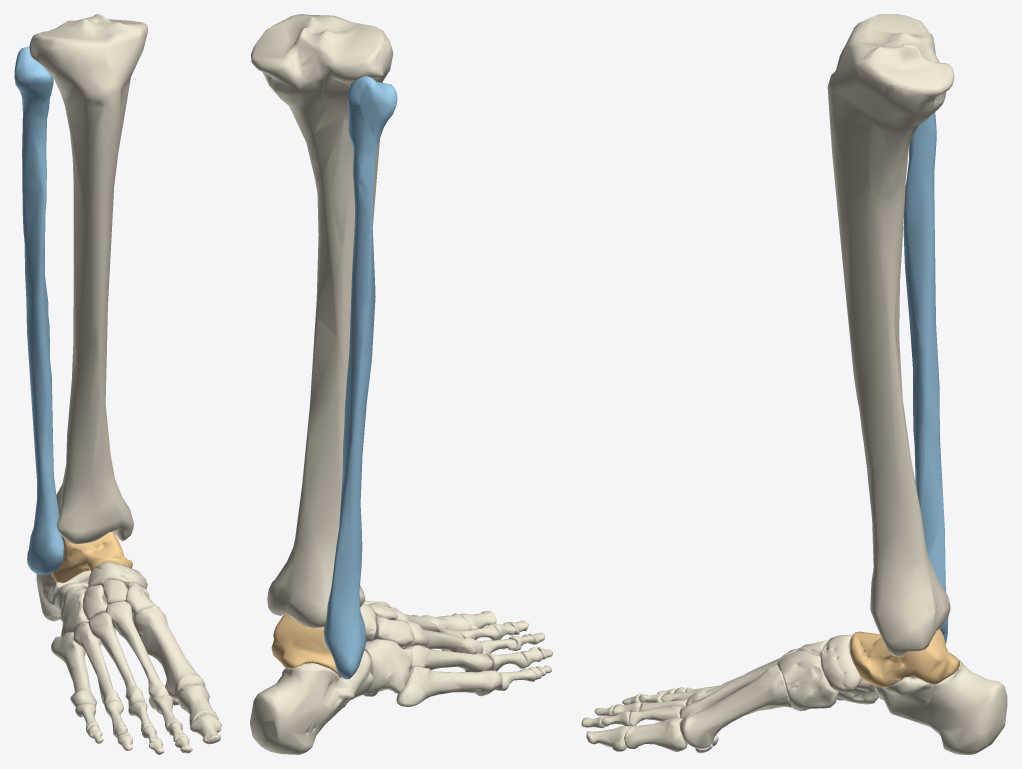
The model's file is ankle-preview.glb.
The picture shows the model from 3 angles, left to right: view 1: azimuth 30°, elevation 25°; view 2: azimuth 150°, elevation 25°; view 3: azimuth 270°, elevation 25°; orthographic projection. The views are drawn at different scales.
Parts seen in each view (by area): view 1: Tibia.r-ankle-preview, Fibula.r-ankle-preview, First metatarsal bone.r-ankle-preview, Talus.r-ankle-preview, Second metatarsal bone.r-ankle-preview, Fifth metatarsal bone.r-ankle-preview, Third metatarsal bone.r-ankle-preview, Calcaneus.r-ankle-preview, Fourth metatarsal bone.r-ankle-preview, Navicular bone.r-ankle-preview, Proximal phalanx of first finger of foot-ankle-preview, Cuboid bone.r-ankle-preview (+8 smaller); view 2: Tibia.r-ankle-preview, Fibula.r-ankle-preview, Calcaneus.r-ankle-preview, Fifth metatarsal bone.r-ankle-preview, Talus.r-ankle-preview, Cuboid bone.r-ankle-preview, Fourth metatarsal bone.r-ankle-preview, Third metatarsal bone.r-ankle-preview, Lateral cuneiform bone.r-ankle-preview, Second metatarsal bone.r-ankle-preview, Proximal phalanx of first finger of foot-ankle-preview; view 3: Tibia.r-ankle-preview, Fibula.r-ankle-preview, Calcaneus.r-ankle-preview, Talus.r-ankle-preview, First metatarsal bone.r-ankle-preview, Medial cuneiform bone.r-ankle-preview, Navicular bone.r-ankle-preview, Proximal phalanx of first finger of foot-ankle-preview, Second metatarsal bone.r-ankle-preview, Distal phalanx of first finger of foot-ankle-preview.
Boxes of the visible parts, left/top/right/bottom form: Tibia.r-ankle-preview: left=29, top=14, right=148, bottom=544; Fibula.r-ankle-preview: left=14, top=46, right=64, bottom=574; First metatarsal bone.r-ankle-preview: left=133, top=605, right=205, bottom=699; Talus.r-ankle-preview: left=51, top=531, right=132, bottom=583; Second metatarsal bone.r-ankle-preview: left=105, top=601, right=169, bottom=709; Fifth metatarsal bone.r-ankle-preview: left=51, top=632, right=96, bottom=706; Third metatarsal bone.r-ankle-preview: left=88, top=612, right=144, bottom=707; Calcaneus.r-ankle-preview: left=36, top=570, right=91, bottom=621; Fourth metatarsal bone.r-ankle-preview: left=73, top=622, right=121, bottom=705; Navicular bone.r-ankle-preview: left=88, top=562, right=147, bottom=589; Proximal phalanx of first finger of foot-ankle-preview: left=178, top=683, right=218, bottom=725; Cuboid bone.r-ankle-preview: left=60, top=587, right=88, bottom=636; Tibia.r-ankle-preview: left=251, top=14, right=393, bottom=628; Fibula.r-ankle-preview: left=323, top=76, right=397, bottom=679; Calcaneus.r-ankle-preview: left=250, top=650, right=372, bottom=754; Fifth metatarsal bone.r-ankle-preview: left=396, top=666, right=502, bottom=706; Talus.r-ankle-preview: left=271, top=613, right=341, bottom=677; Cuboid bone.r-ankle-preview: left=363, top=639, right=412, bottom=696; Fourth metatarsal bone.r-ankle-preview: left=404, top=645, right=492, bottom=672; Third metatarsal bone.r-ankle-preview: left=401, top=621, right=482, bottom=654; Lateral cuneiform bone.r-ankle-preview: left=373, top=617, right=414, bottom=647; Second metatarsal bone.r-ankle-preview: left=389, top=607, right=463, bottom=651; Proximal phalanx of first finger of foot-ankle-preview: left=421, top=613, right=471, bottom=630; Tibia.r-ankle-preview: left=827, top=14, right=954, bottom=656; Fibula.r-ankle-preview: left=903, top=33, right=948, bottom=643; Calcaneus.r-ankle-preview: left=875, top=657, right=1007, bottom=754; Talus.r-ankle-preview: left=850, top=629, right=959, bottom=687; First metatarsal bone.r-ankle-preview: left=680, top=665, right=791, bottom=748; Medial cuneiform bone.r-ankle-preview: left=777, top=650, right=838, bottom=711; Navicular bone.r-ankle-preview: left=820, top=634, right=862, bottom=692; Proximal phalanx of first finger of foot-ankle-preview: left=624, top=718, right=687, bottom=751; Second metatarsal bone.r-ankle-preview: left=679, top=648, right=799, bottom=718; Distal phalanx of first finger of foot-ankle-preview: left=586, top=726, right=630, bottom=751.
Size of the model in its own units: 0.1091 by 0.424 by 0.2289.
